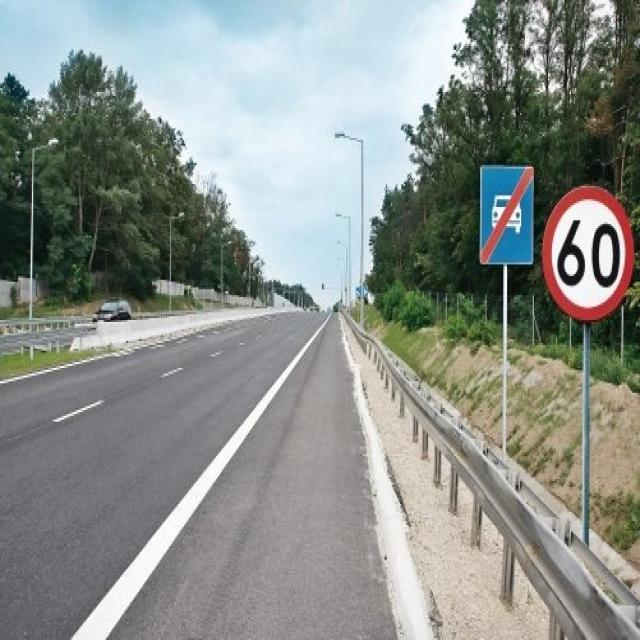Speed Limit -60-: (556, 218, 622, 289)
